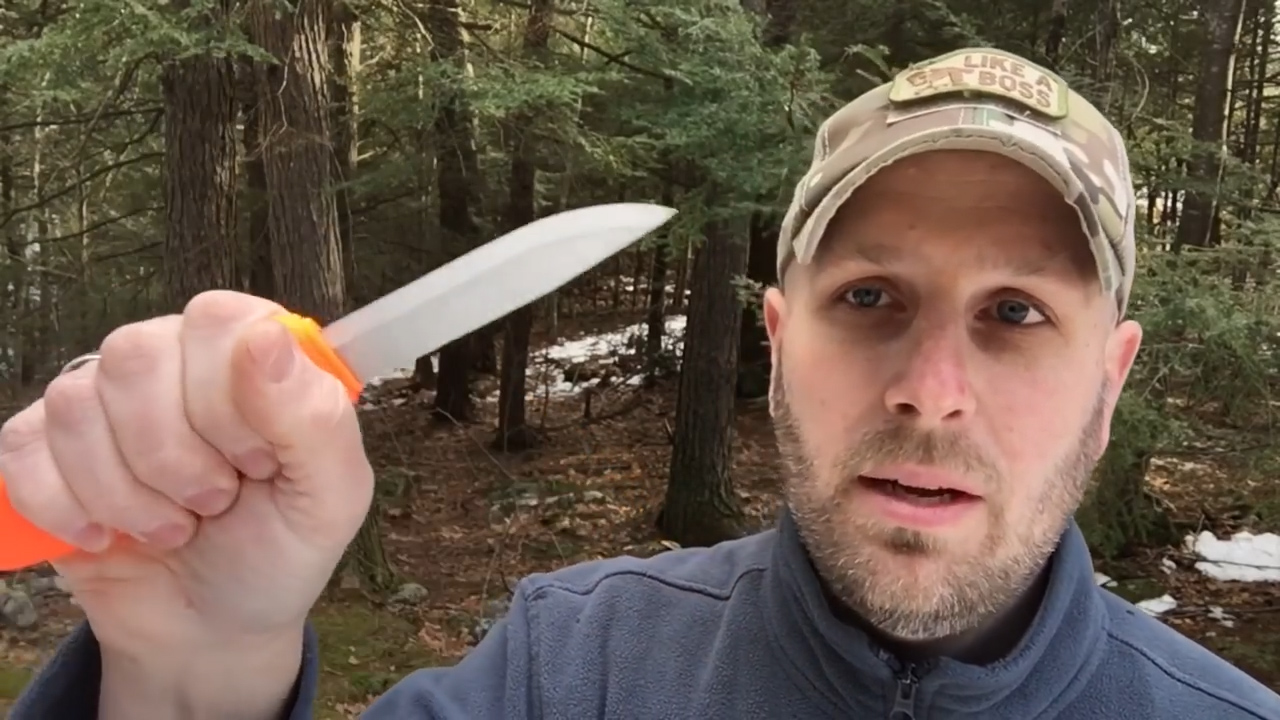knife: (98, 183, 701, 506)
